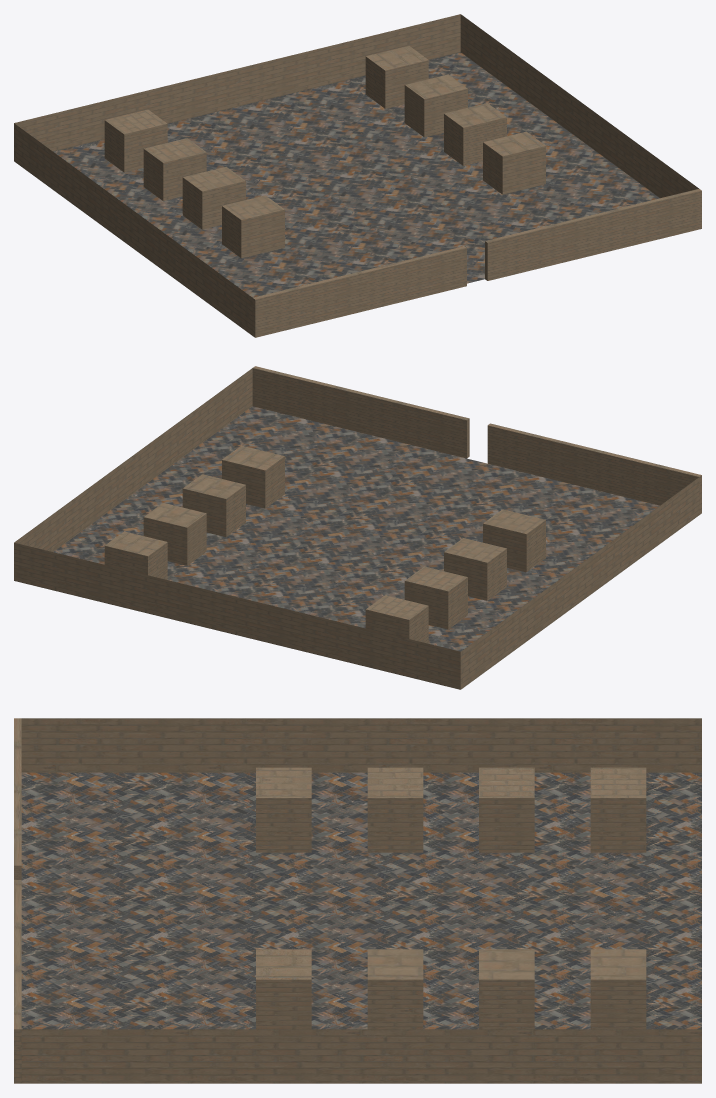
File: taosheng.fbx
The picture shows the model from 3 angles, top to bottom: view 1: azimuth 30°, elevation 25°; view 2: azimuth 150°, elevation 25°; view 3: azimuth 270°, elevation 25°; orthographic projection. The views are drawn at different scales.
Visible parts, largest first — view 1: pCube2; view 2: pCube2; view 3: pCube2.
Boxes of the visible parts, left/top/right/bottom form: pCube2: left=14, top=14, right=701, bottom=337; pCube2: left=14, top=366, right=701, bottom=689; pCube2: left=14, top=718, right=701, bottom=1083.
Size of the model in its own units: 4400 by 360 by 4114.
